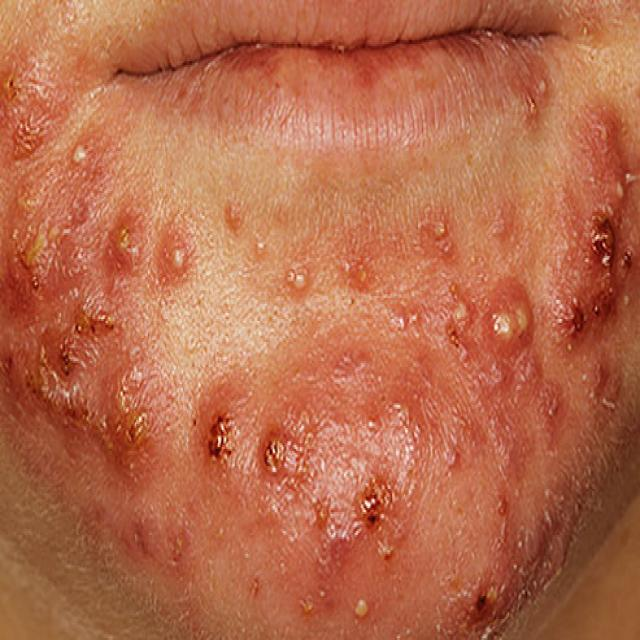acne: (0, 44, 640, 640)
